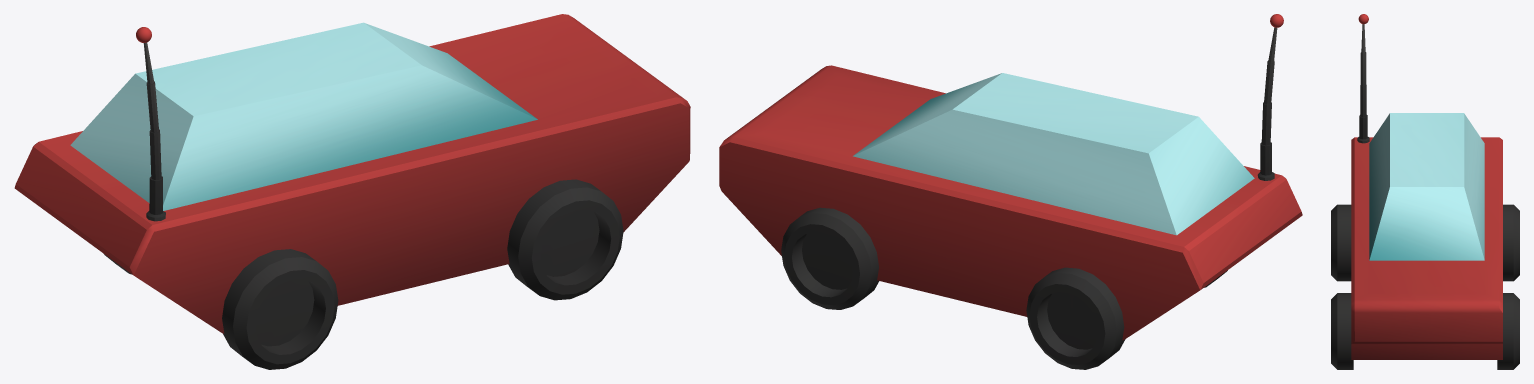
File: toyCarV1.fbx
The picture shows the model from 3 angles, left to right: view 1: azimuth 30°, elevation 25°; view 2: azimuth 150°, elevation 25°; view 3: azimuth 270°, elevation 25°; orthographic projection. The views are drawn at different scales.
Visible parts, largest first — view 1: Car1; view 2: Car1; view 3: Car1.
Boxes of the visible parts, box(x1,y1,x2,y2) form: Car1: box(14, 14, 690, 369); Car1: box(719, 14, 1302, 369); Car1: box(1331, 14, 1519, 369).
Bounding box in the file's own units: 2.72 × 1.64 × 1.25.
Materials: 1 (1 with a texture image).
